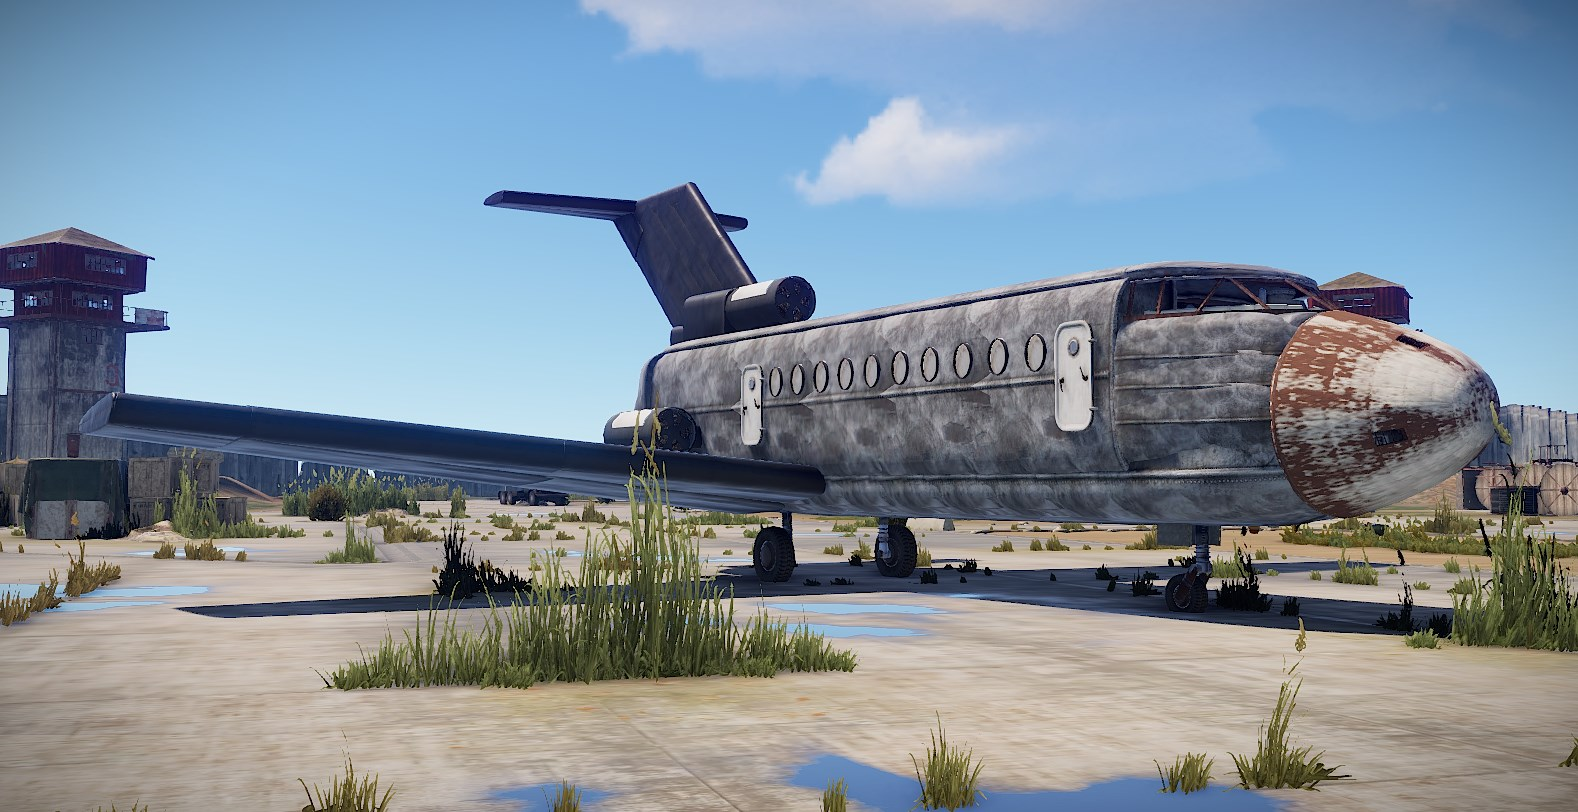rust: (1285, 334, 1448, 503)
